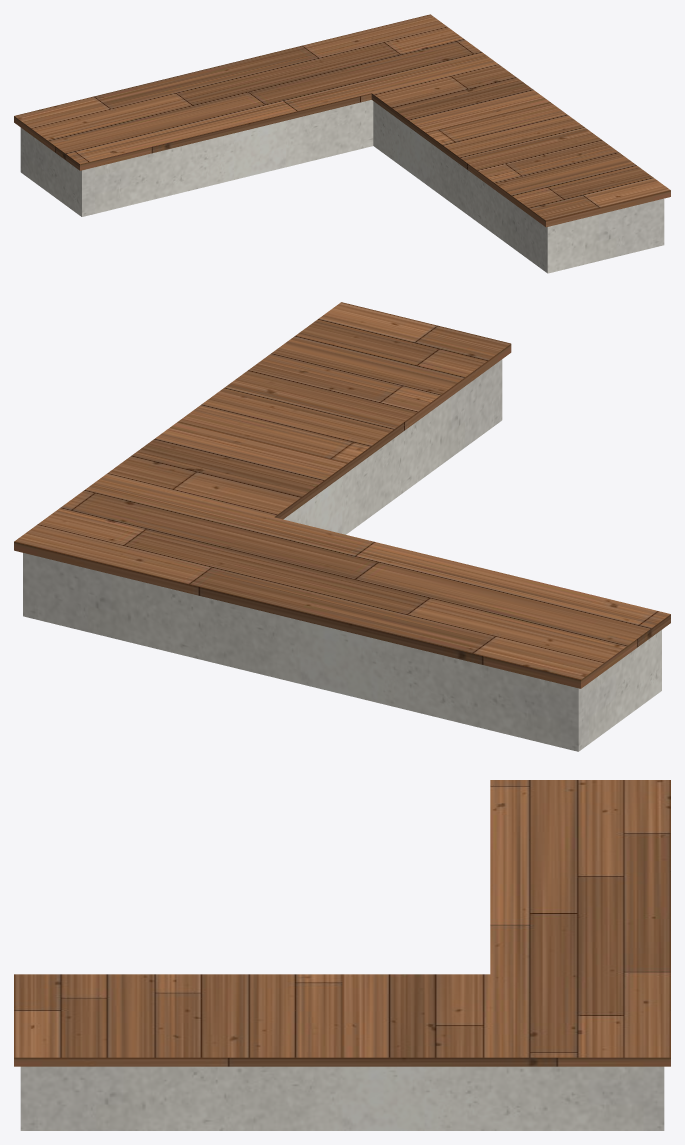
Rendered from floor_tile_hole_1.glb.
3 renders of one model, top to bottom at view 1: azimuth 30°, elevation 25°; view 2: azimuth 150°, elevation 25°; view 3: azimuth 270°, elevation 25°, orthographic. The views are drawn at different scales.
Visible parts, largest first — view 1: floor_tile_hole_1_floor, floor_tile_hole_1_plaster; view 2: floor_tile_hole_1_floor, floor_tile_hole_1_plaster; view 3: floor_tile_hole_1_floor, floor_tile_hole_1_plaster.
Part boxes in pixels (left/top/right/bottom): floor_tile_hole_1_floor: left=14, top=14, right=670, bottom=227; floor_tile_hole_1_plaster: left=20, top=100, right=664, bottom=273; floor_tile_hole_1_floor: left=14, top=302, right=670, bottom=688; floor_tile_hole_1_plaster: left=23, top=359, right=661, bottom=751; floor_tile_hole_1_floor: left=14, top=780, right=670, bottom=1066; floor_tile_hole_1_plaster: left=20, top=1066, right=664, bottom=1130.
Size of the model in its own units: 2 by 0.255 by 2.
Materials: 2 (2 with a texture image).
